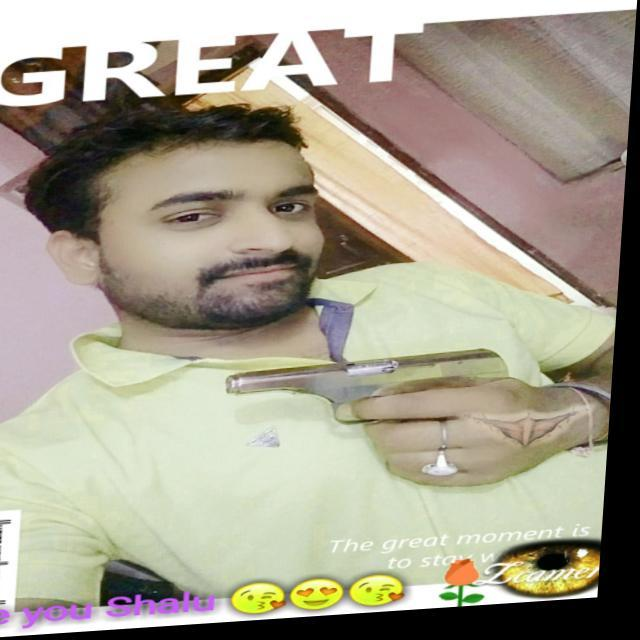weapon: (222, 352, 541, 492)
